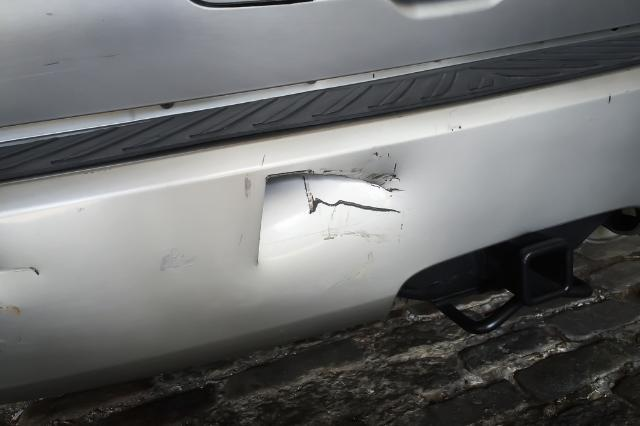crack: (255, 170, 404, 272)
